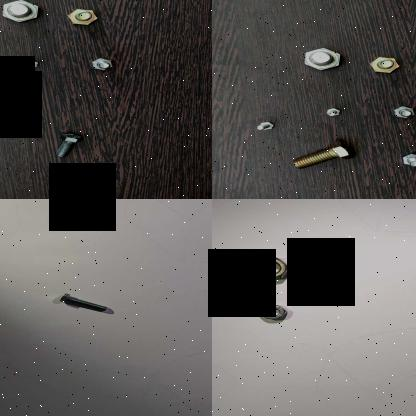Bolts: (287, 138, 359, 174), (0, 0, 49, 26), (295, 46, 343, 72), (55, 292, 111, 314), (47, 131, 86, 160), (0, 96, 36, 126), (60, 2, 100, 29), (365, 52, 399, 78), (82, 58, 117, 77), (390, 102, 416, 122), (254, 120, 282, 138), (320, 106, 344, 119), (398, 153, 416, 170), (19, 58, 39, 72)
NUTS: (243, 255, 295, 283), (254, 302, 296, 326)
